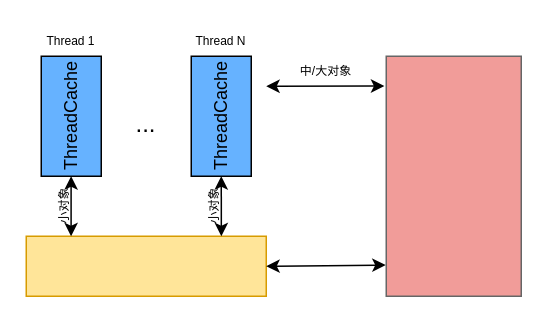
Image size: 548x323. Some labels were removed from this diagram. The shapes that lost their labels are listed below. From the top down, each one's centre as x and y in pixels, then its label:
At (x=453, y=175): "PageHeap".
At (x=145, y=265): "CentralCache".
